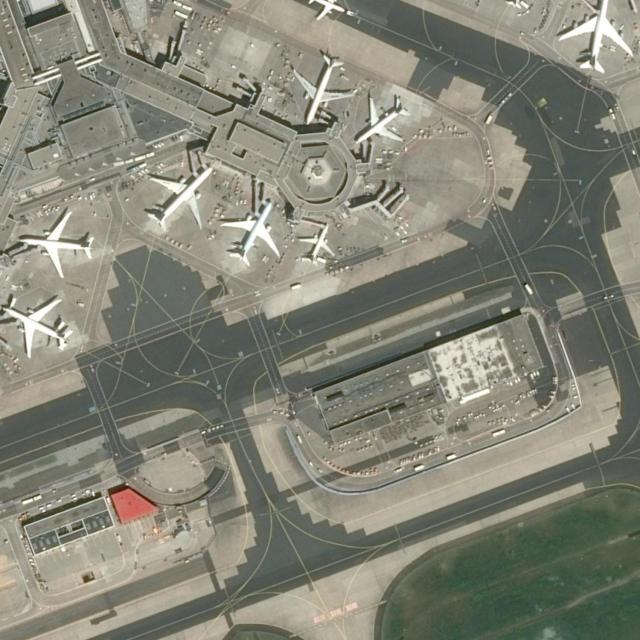Aircraft: (555, 0, 635, 76), (14, 207, 96, 281), (142, 157, 217, 233), (288, 45, 358, 125), (0, 294, 77, 361), (219, 196, 283, 268), (347, 91, 413, 147), (295, 220, 335, 268), (303, 0, 350, 22)
